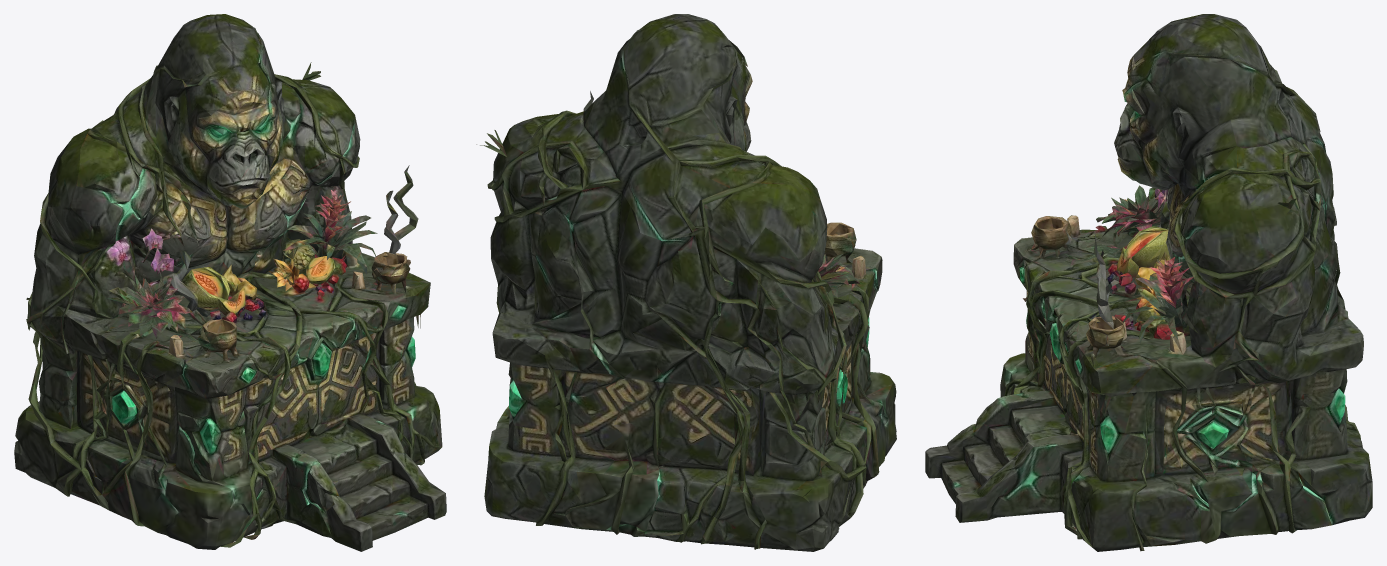
File: model.opt.glb
The picture shows the model from 3 angles, left to right: view 1: azimuth 30°, elevation 25°; view 2: azimuth 150°, elevation 25°; view 3: azimuth 270°, elevation 25°; orthographic projection. The views are drawn at different scales.
Visible parts, largest first — view 1: Mesh_0; view 2: Mesh_0; view 3: Mesh_0.
Boxes of the visible parts, left/top/right/bottom form: Mesh_0: left=14, top=14, right=446, bottom=551; Mesh_0: left=476, top=14, right=896, bottom=551; Mesh_0: left=925, top=14, right=1372, bottom=551.
Size of the model in its own units: 1.56 by 1.9 by 1.72.
1 material, 1 textured.
